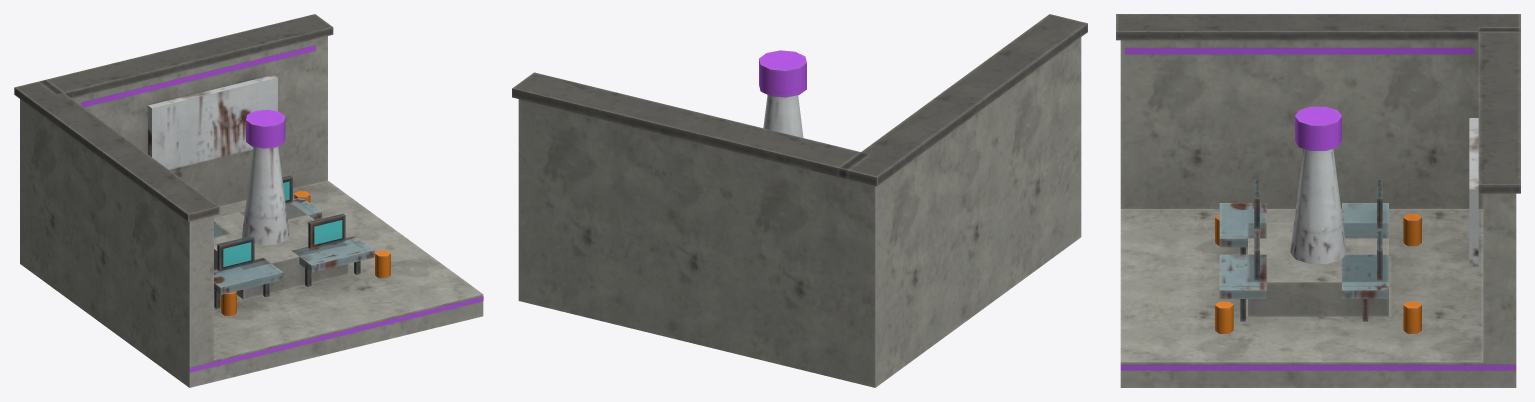
File: elite_academy.glb
3 renders of one model, left to right at view 1: azimuth 30°, elevation 25°; view 2: azimuth 150°, elevation 25°; view 3: azimuth 270°, elevation 25°, orthographic. The views are drawn at different scales.
Parts seen in each view (by area): view 1: te_elite_academy; view 2: te_elite_academy; view 3: te_elite_academy.
Boxes of the visible parts, x1,y1,x2,y2 form: te_elite_academy: (14, 14, 483, 387); te_elite_academy: (512, 14, 1087, 387); te_elite_academy: (1116, 14, 1520, 387).
Bounding box in the file's own units: 0.86 × 0.48 × 0.86.
1 material, 1 textured.
